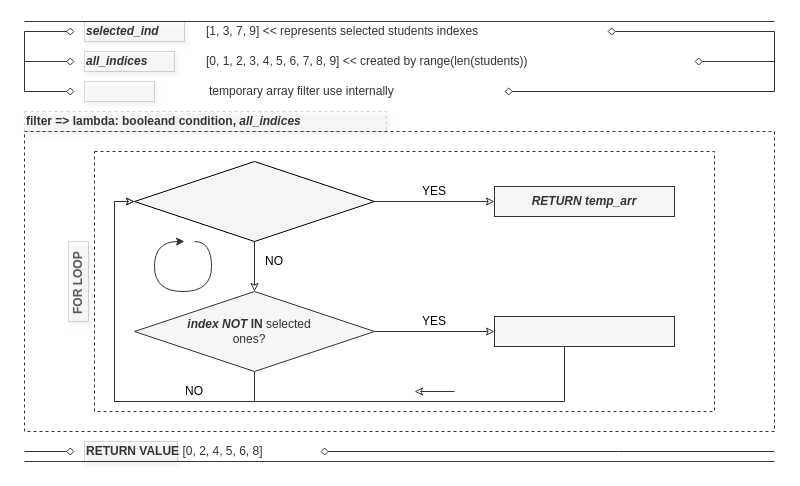
This 800x486 diagram has some shape labels left out. Each missing label, with the centre of its shape:
all_indices iterated through?: point (254, 201)
temp_arr: point (120, 92)
temp_arr APPEND index: point (584, 331)
